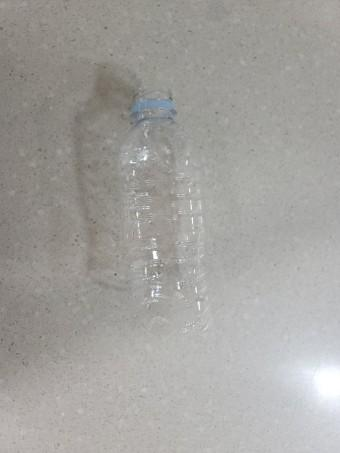bottle: (112, 85, 201, 309)
